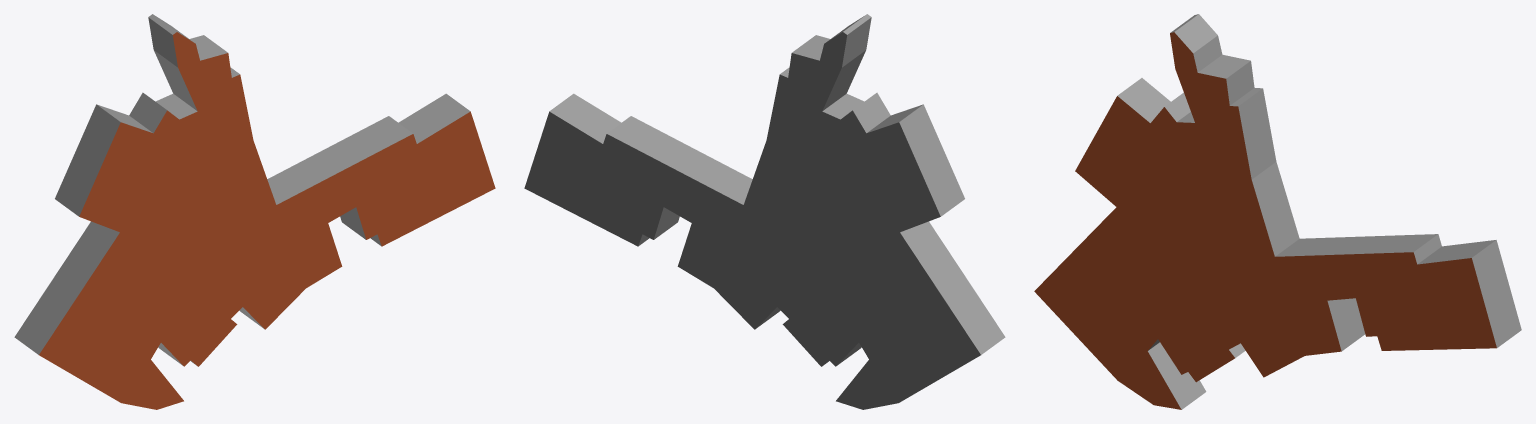
Rendered from construction_3081_assumed_A_Casa_h6m.obj.
3 renders of one model, left to right at view 1: azimuth 30°, elevation 25°; view 2: azimuth 150°, elevation 25°; view 3: azimuth 330°, elevation 25°, orthographic.
Visible parts, largest first — view 1: construction_3081_assumed_A_Casa; view 2: construction_3081_assumed_A_Casa; view 3: construction_3081_assumed_A_Casa.
Part boxes in pixels (x1=…): construction_3081_assumed_A_Casa: x1=14, y1=14, x2=495, y2=409; construction_3081_assumed_A_Casa: x1=524, y1=14, x2=1005, y2=409; construction_3081_assumed_A_Casa: x1=1034, y1=14, x2=1521, y2=409.
Bounding box in the file's own units: 64.72 × 50.52 × 6.
